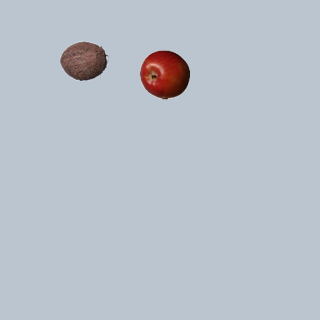Apple Braeburn: (139, 49, 189, 99)
Cocos: (58, 35, 108, 85)
